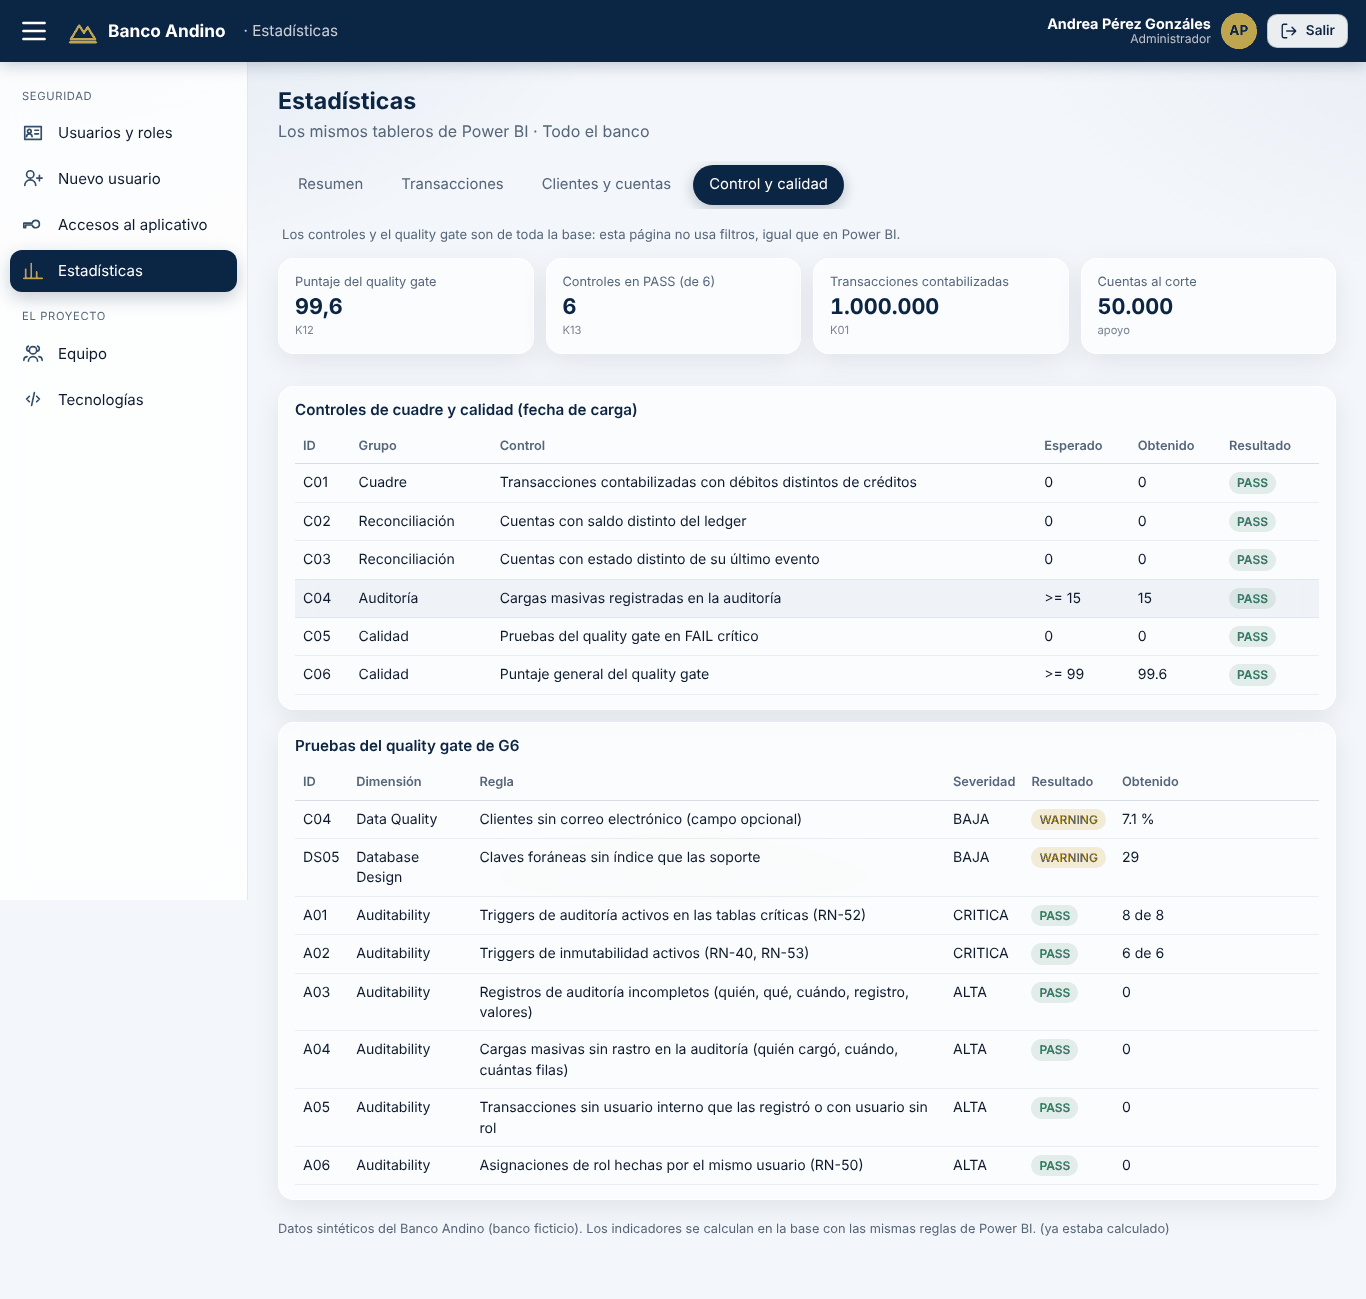

What the dashboard file says about the page in this screenshot:
{"tool":"powerbi","page":{"name":"Control y calidad","canvas":[1280,720],"ordinal":3},"visuals":[{"type":"textbox","box":[24,12,700,48],"z":0},{"type":"card","fields":{"Values":["bi calidad_prueba.K12 Puntaje del quality gate"]},"box":[24,84,299,96],"z":10000},{"type":"card","fields":{"Values":["bi fact_control.K13 Controles en PASS"]},"box":[335,84,299,96],"z":11000},{"type":"card","fields":{"Values":["bi fact_transaccion.K01 Transacciones contabilizadas"]},"box":[646,84,299,96],"z":12000},{"type":"card","fields":{"Values":["bi fact_saldo_cuenta.Cuentas al corte"]},"box":[957,84,299,96],"z":13000},{"type":"tableEx","title":"Controles de cuadre y calidad (fecha de carga)","fields":{"Values":["bi fact_control.control_id","bi fact_control.grupo","bi fact_control.control","bi fact_control.esperado","bi fact_control.obtenido","bi fact_control.resultado"]},"box":[24,196,1232,230],"z":20000},{"type":"tableEx","title":"Pruebas del quality gate de G6","fields":{"Values":["bi calidad_prueba.test_id","bi calidad_prueba.dimension","bi calidad_prueba.regla","bi calidad_prueba.severidad","bi calidad_prueba.resultado","bi calidad_prueba.obtenido"]},"box":[24,438,1232,260],"z":21000}]}

Visuals, with their boxes on the page's 1280x720 design canvas (x1, y1, x2, y2). These are canvas units, not pixel positions in the 1366x1299 screenshot, which may show the page scaled, cropped or inside an application window:
textbox: [24,12,724,60]
card - bi calidad_prueba.K12 Puntaje del quality gate: [24,84,323,180]
card - bi fact_control.K13 Controles en PASS: [335,84,634,180]
card - bi fact_transaccion.K01 Transacciones contabilizadas: [646,84,945,180]
card - bi fact_saldo_cuenta.Cuentas al corte: [957,84,1256,180]
"Controles de cuadre y calidad (fecha de carga)" tableEx: [24,196,1256,426]
"Pruebas del quality gate de G6" tableEx: [24,438,1256,698]
